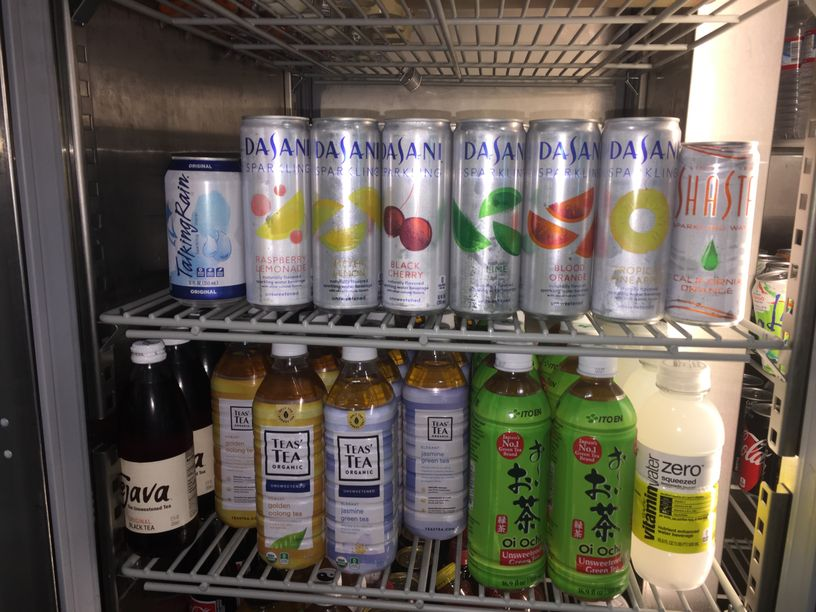blackcherry: (381, 118, 450, 315)
blood_orange: (525, 117, 597, 319)
competitor_01: (678, 138, 756, 324)
competitor_02: (164, 156, 243, 305)
lemon: (311, 116, 380, 313)
lemonade: (241, 115, 311, 310)
lime: (452, 119, 524, 317)
pineapple: (600, 114, 675, 320)
